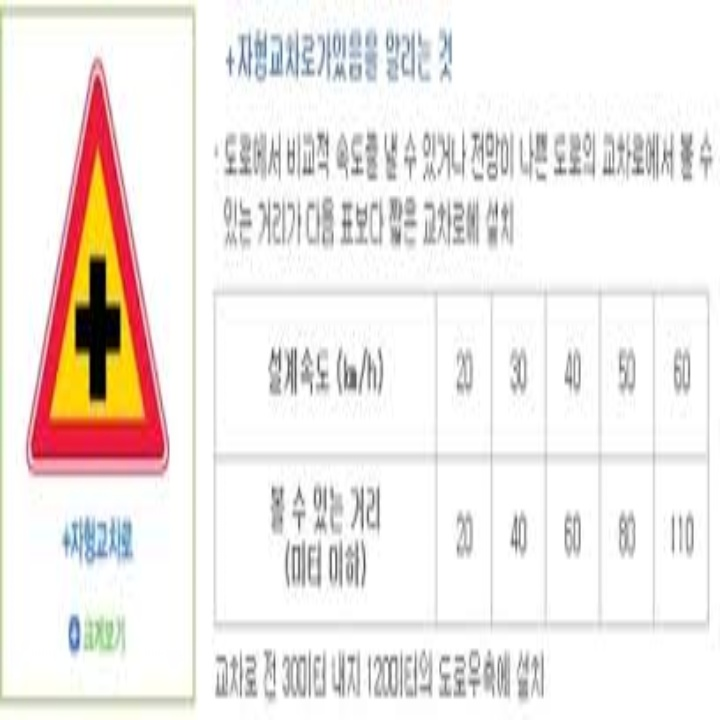inter: (67, 244, 127, 411)
